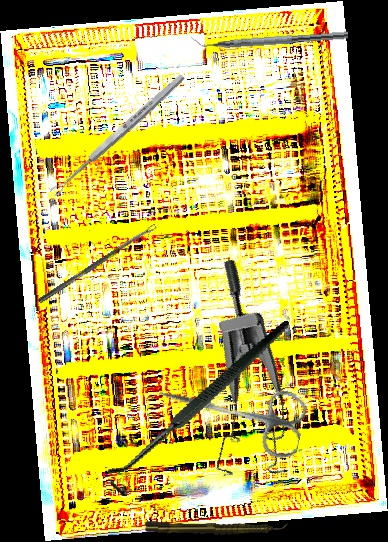Chopper: (190, 20, 349, 53)
Handpiece: (143, 520, 288, 536)
Hook Surgical: (83, 320, 320, 499)
Iris Scissors: (150, 363, 310, 462)
Speculum: (138, 257, 328, 498)
Surgical Spoon: (48, 72, 187, 198), (37, 223, 158, 305)
